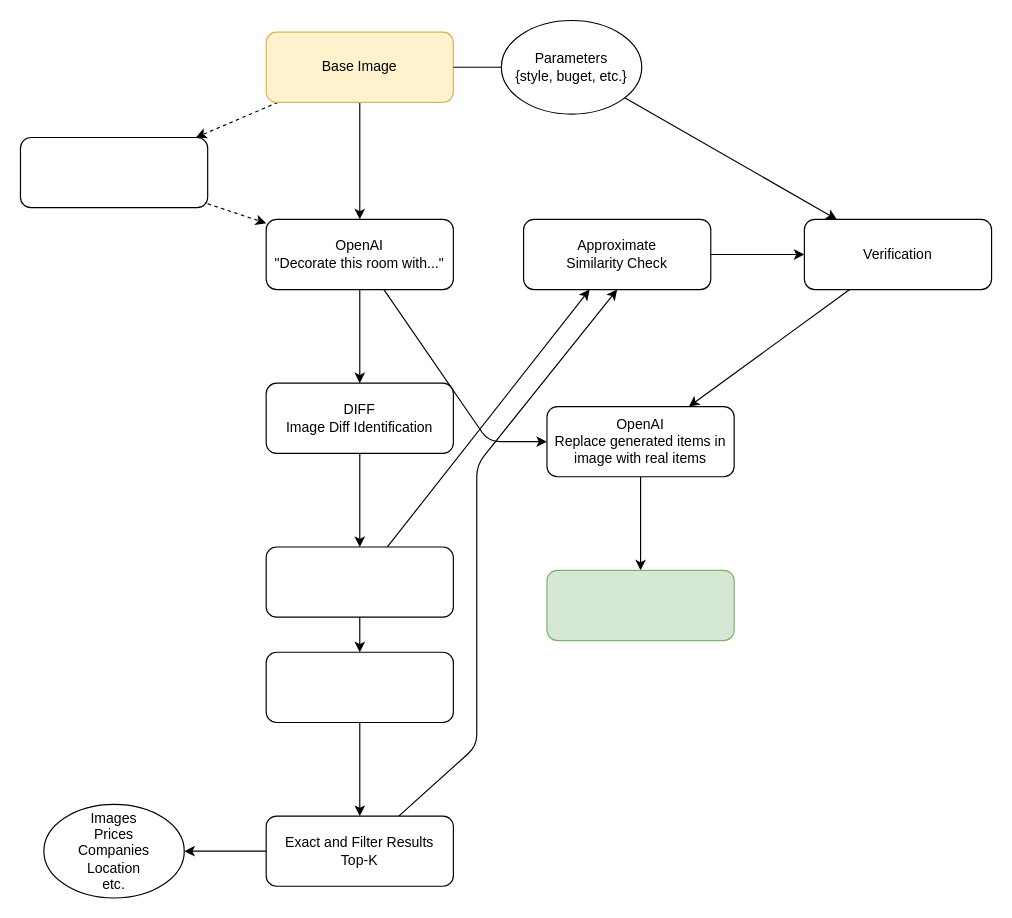
This 1012x918 diagram has some shape labels left out. The centre of each missing label's shape, as x and y in pixels:
"Google Reverse Image Search Google API or Selenium" belongs at pixel 359 686.
"Grouping Identify the added objects" belongs at pixel 359 581.
"Mask Generation Identify areas that can be decorated / filled" belongs at pixel 113 172.
"Output" belongs at pixel 640 605.
